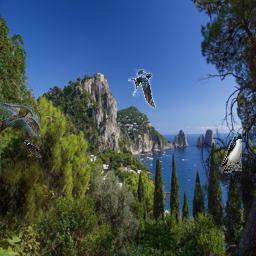Crow: (24, 140, 41, 158)
Cuckoo: (0, 103, 40, 136)
Swallow: (128, 69, 156, 109), (221, 133, 242, 173)
